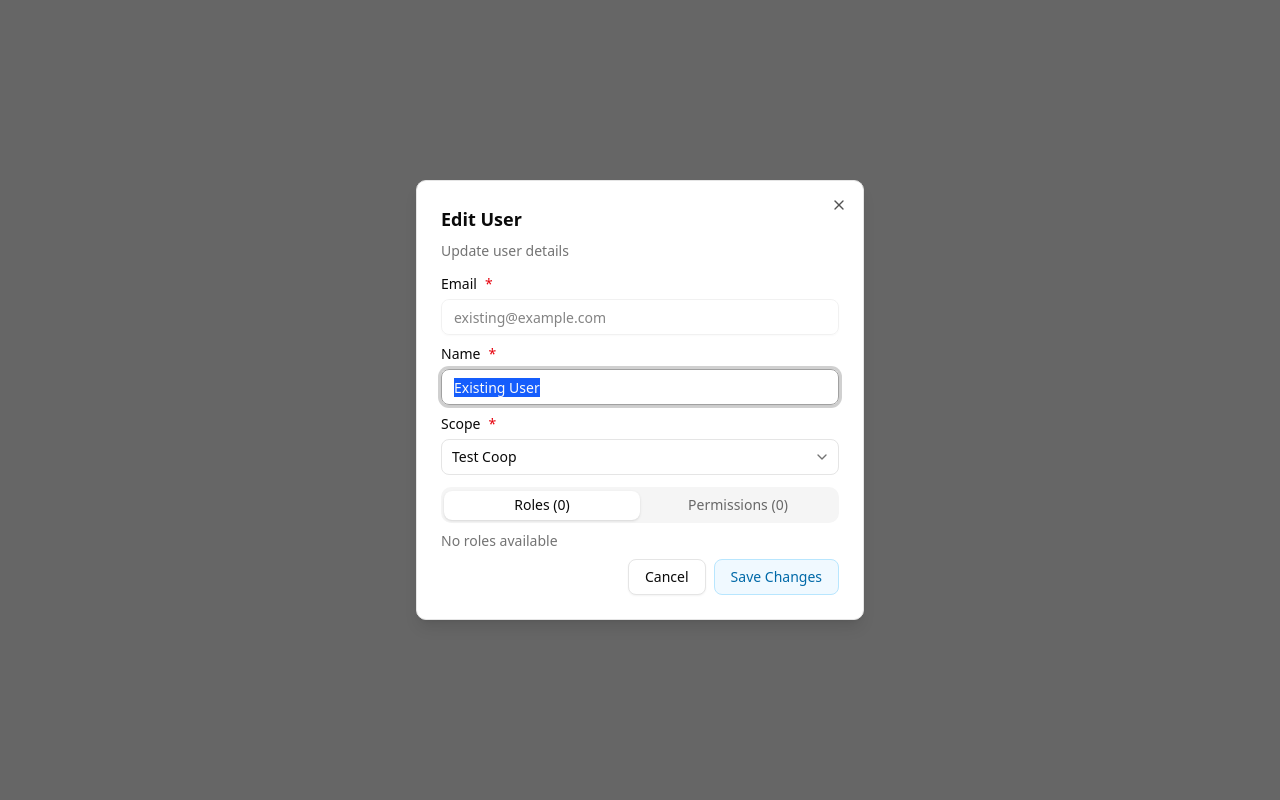
UserDialog — edit mode › clearing name and submitting shows "Name is required."
The image size is (1280, 800).
Clear the field showing "Existing User" at (640, 387), box [441, 369, 839, 405]
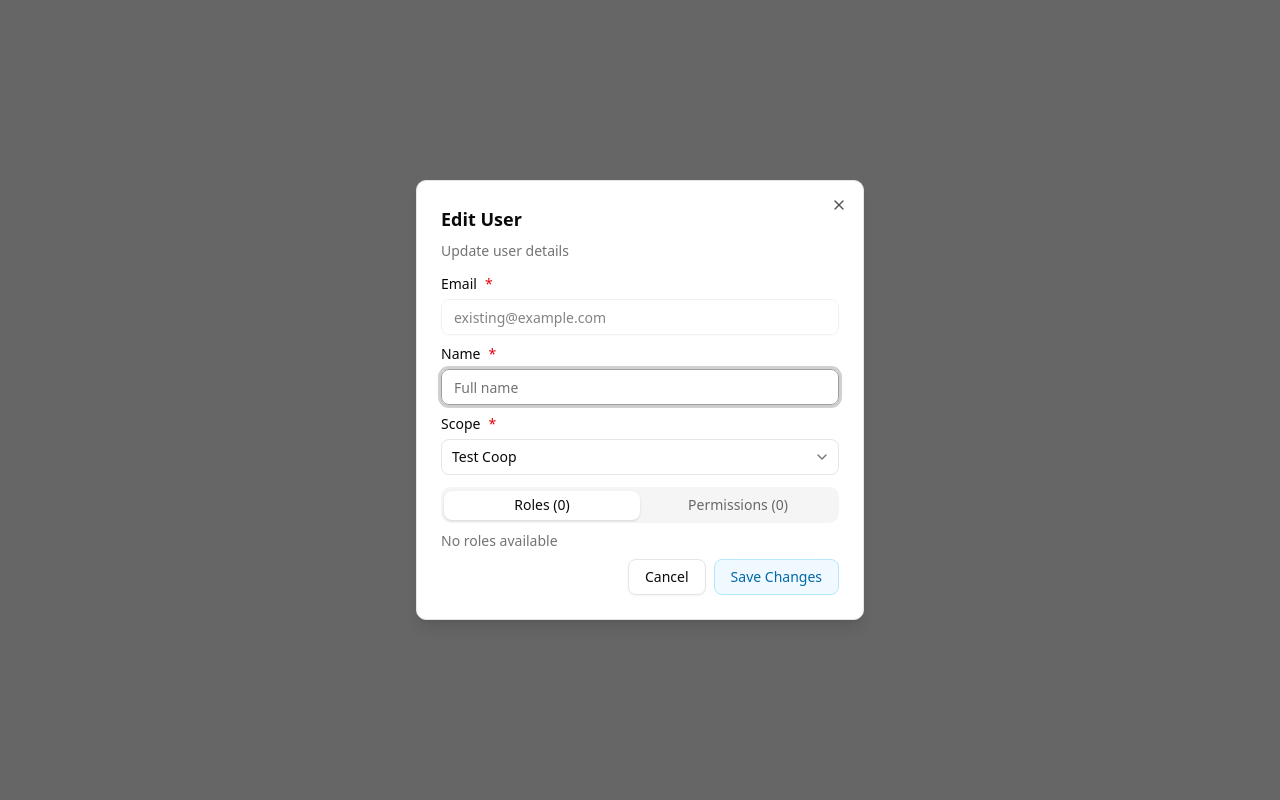
Click the button "Save Changes" at (776, 577), box [714, 559, 839, 595]
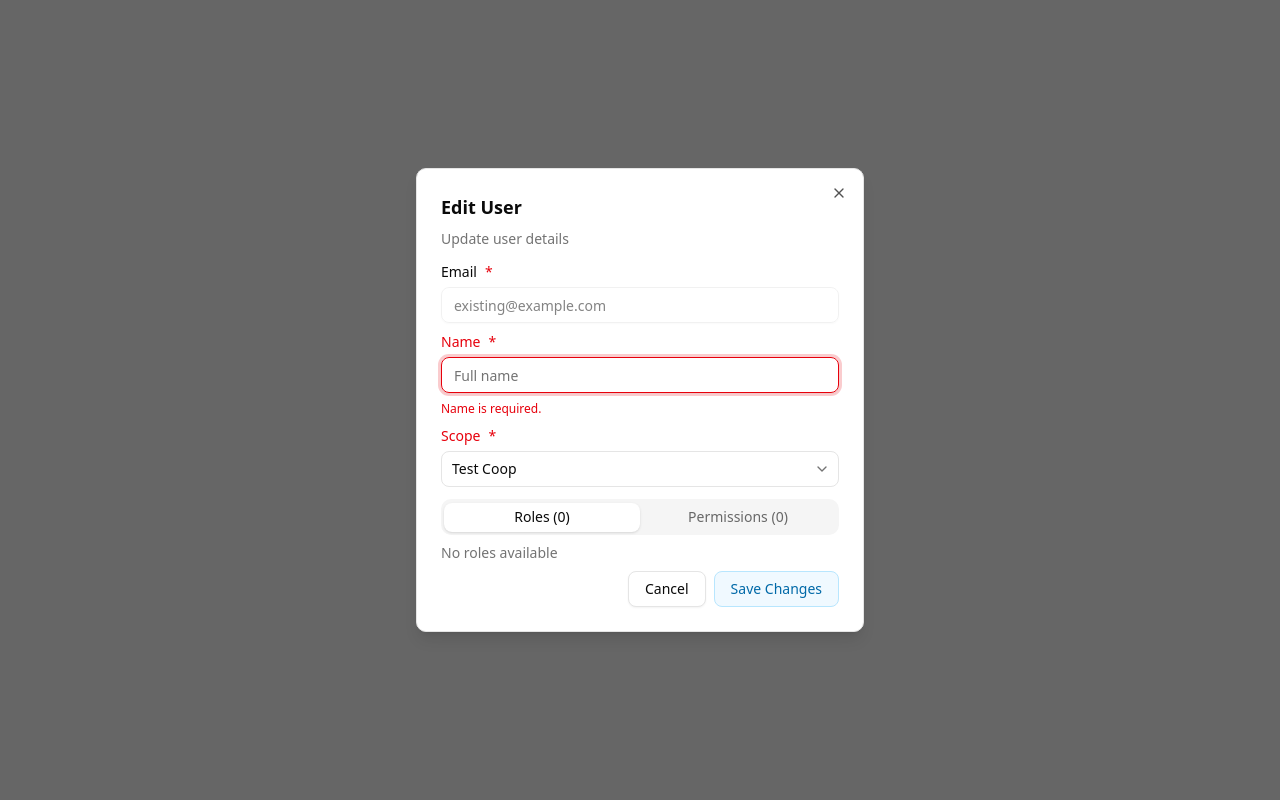
Check: the text "Name is required." is shown, box [441, 400, 541, 417]
